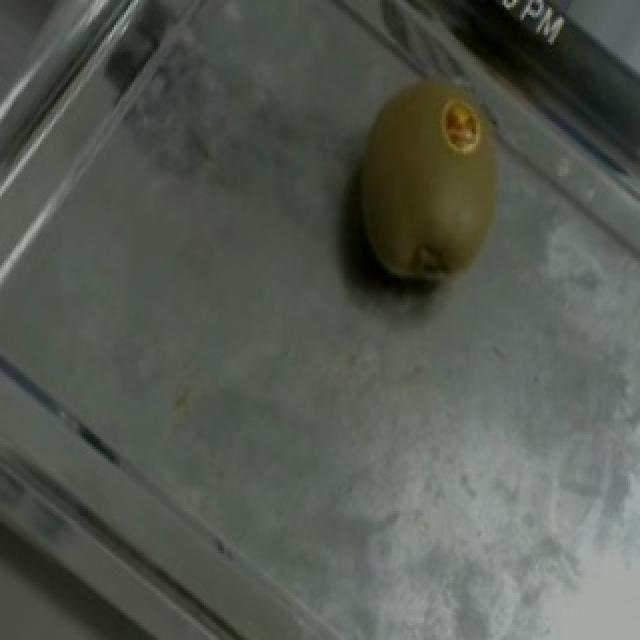Fruit: (300, 47, 546, 320)
